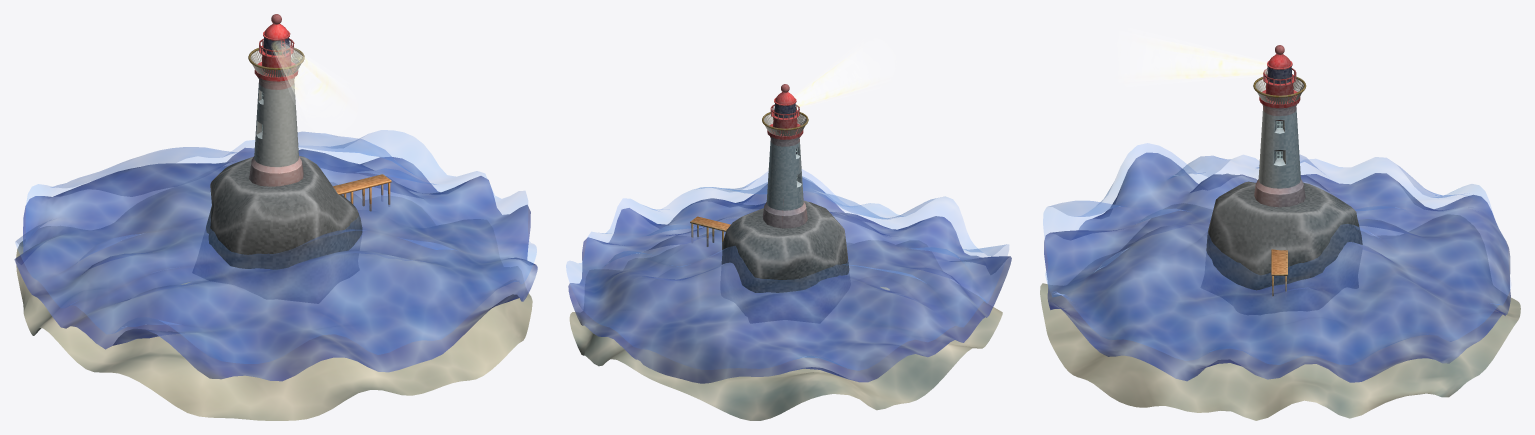
Rendered from lighthouse_b.glb.
The picture shows the model from 3 angles, left to right: view 1: azimuth 30°, elevation 25°; view 2: azimuth 150°, elevation 25°; view 3: azimuth 270°, elevation 25°; orthographic projection. The views are drawn at different scales.
Parts seen in each view (by area): view 1: Water, Rock, Lighthouse, Light Cone, Landing Stage, lower bars; view 2: Water, Rock, Lighthouse, Light Cone, Landing Stage; view 3: Water, Rock, Lighthouse, Light Cone, Landing Stage, lower bars.
Part boxes in pixels (x1,y1,x2,y2): Water: (14,130,537,420); Rock: (192,156,362,303); Lighthouse: (249,23,303,186); Light Cone: (272,41,347,120); Landing Stage: (333,174,391,211); lower bars: (250,50,302,77); Water: (566,169,1011,420); Rock: (721,200,850,322); Lighthouse: (762,92,807,228); Light Cone: (794,46,883,108); Landing Stage: (690,216,730,249); Water: (1040,143,1520,420); Rock: (1201,181,1362,314); Lighthouse: (1254,54,1305,207); Light Cone: (1122,34,1267,82); Landing Stage: (1271,249,1287,297); lower bars: (1255,79,1303,104).
Size of the model in its own units: 38.13 by 25.38 by 37.42.
Materials: 7 (7 with a texture image).
